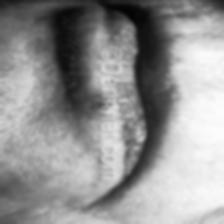Potentially Malignant Skin Tumors: (92, 96, 119, 124), (124, 122, 150, 148)
